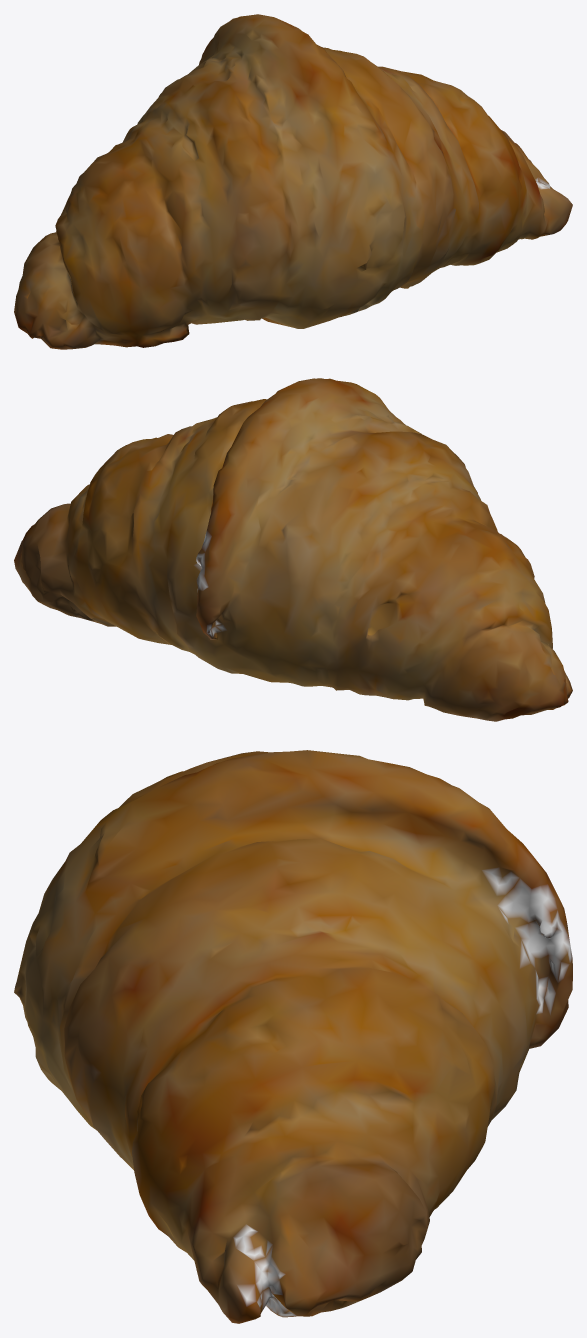
Rendered from SM_Croissant_NN_02a.fbx.
3 views of the same model, one above another, from view 1: azimuth 30°, elevation 25°; view 2: azimuth 150°, elevation 25°; view 3: azimuth 270°, elevation 25° (orthographic). The views are drawn at different scales.
Visible parts, largest first — view 1: SM_Croissant_NN_02a; view 2: SM_Croissant_NN_02a; view 3: SM_Croissant_NN_02a.
Boxes of the visible parts, <box> form: SM_Croissant_NN_02a: <box>14,14,572,349</box>; SM_Croissant_NN_02a: <box>14,378,572,721</box>; SM_Croissant_NN_02a: <box>14,750,572,1323</box>.
Bounding box in the file's own units: 20.39 × 9.25 × 11.96.
